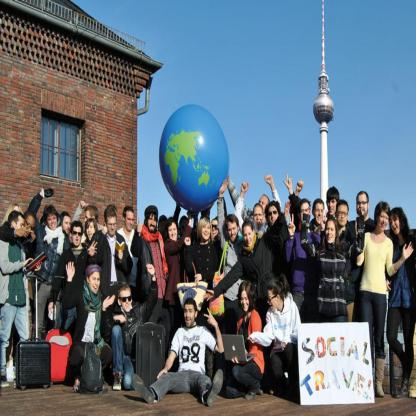face: (24, 217, 36, 240), (185, 304, 196, 327), (267, 290, 278, 312), (228, 222, 239, 244), (121, 291, 132, 312), (338, 206, 349, 227), (327, 222, 337, 244), (90, 273, 100, 294), (358, 197, 368, 217), (379, 211, 389, 231), (268, 208, 279, 226), (107, 218, 117, 237), (201, 222, 211, 241), (244, 228, 254, 247), (254, 209, 264, 228), (301, 204, 311, 223), (391, 216, 401, 235), (315, 204, 324, 225), (73, 227, 82, 247), (126, 212, 135, 232), (148, 214, 157, 234), (242, 293, 251, 313), (259, 197, 269, 215), (169, 224, 178, 243), (48, 214, 58, 231), (87, 224, 96, 242), (16, 218, 24, 237), (212, 221, 220, 240), (64, 217, 72, 235), (328, 199, 337, 215), (181, 220, 189, 237), (13, 208, 20, 225), (85, 212, 92, 229), (160, 221, 167, 237)
